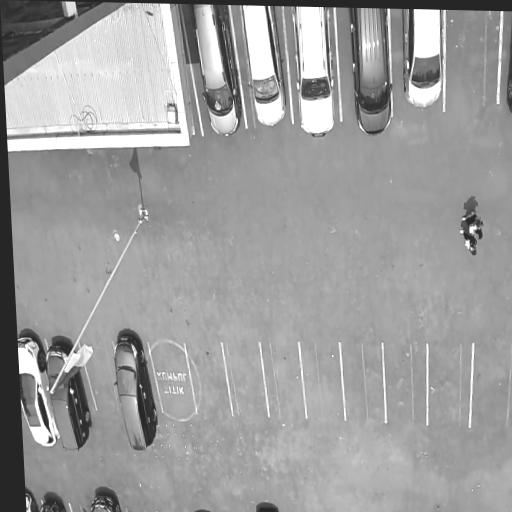Car: (187, 4, 247, 137), (235, 5, 291, 128), (110, 327, 163, 454), (346, 8, 396, 142), (290, 7, 337, 141), (43, 337, 95, 455), (17, 332, 62, 453), (399, 9, 448, 113), (88, 491, 123, 512), (37, 494, 69, 512), (507, 22, 512, 115), (252, 503, 283, 512), (25, 492, 36, 512)
Space Available: (445, 10, 502, 111), (298, 342, 346, 422), (383, 342, 428, 426), (260, 340, 306, 420), (470, 344, 512, 430), (186, 343, 232, 421), (343, 339, 385, 424), (428, 347, 472, 428), (148, 343, 197, 414), (223, 342, 268, 417), (78, 345, 121, 412)
